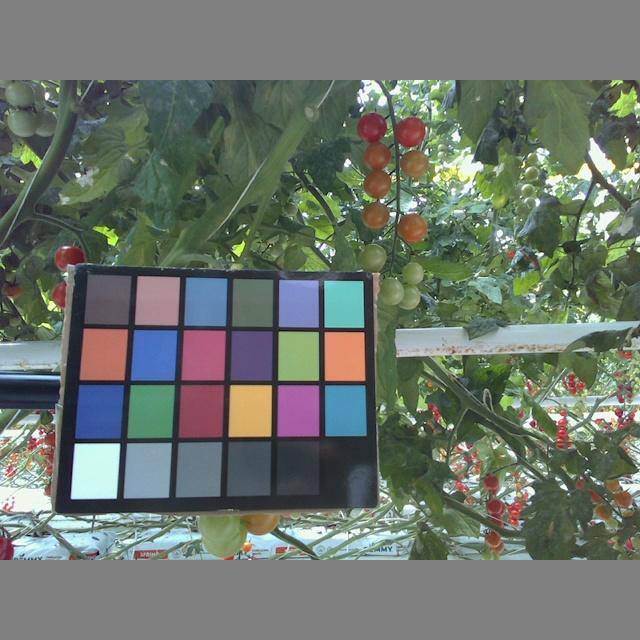green: (200, 512, 249, 558), (7, 101, 42, 137), (377, 269, 405, 306), (356, 241, 387, 271), (1, 81, 34, 108), (396, 282, 421, 312), (401, 261, 425, 287)
pink: (359, 169, 394, 200), (357, 112, 390, 142), (362, 140, 391, 171), (399, 150, 432, 177), (394, 118, 427, 145), (360, 200, 389, 230), (399, 213, 428, 243)
